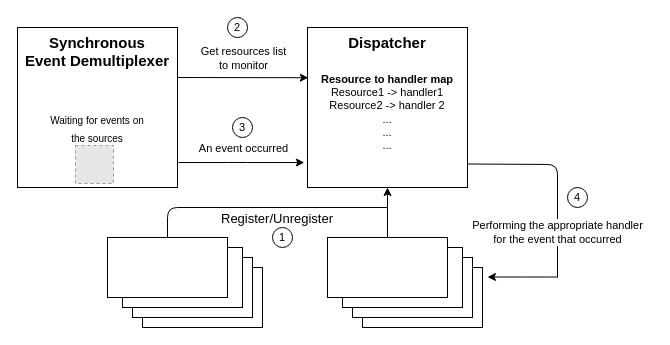
This 670x345 diagram has some shape labels left out. Grey dashed boxes stand in for pictures. Each missing label, with the centre of its shape:
Handler: the point at 387,267
Resouce: the point at 167,267
